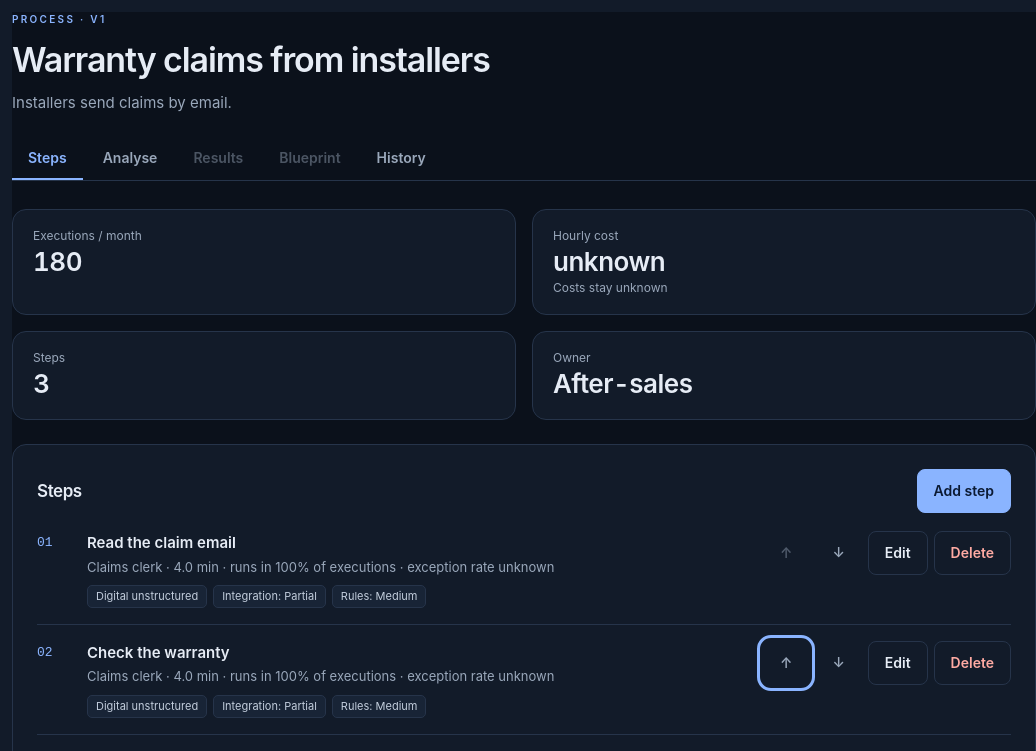
Test: RS-91: reordering steps › keeps focus on a step that reaches the top, on the button that still works
Click the button named "Move Check the warranty up" at (786, 663), box [763, 641, 809, 685]
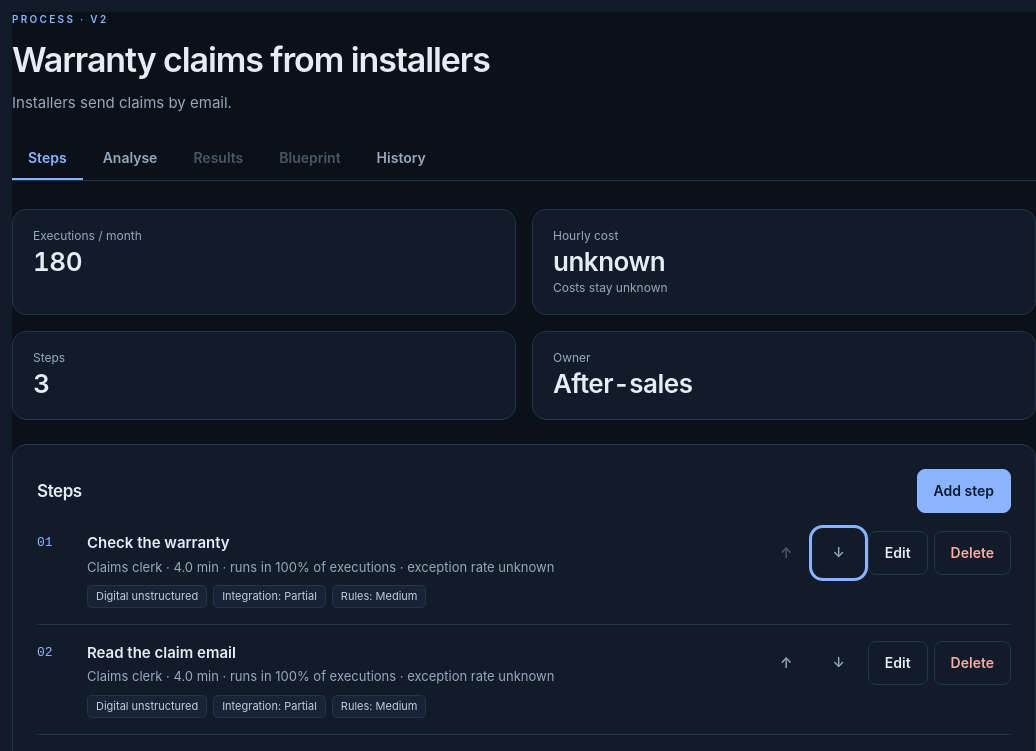
Check: the heading "Check the warranty" is shown, box [87, 533, 230, 552]
Check: the text "Process · v2" is shown, box [12, 13, 108, 25]
